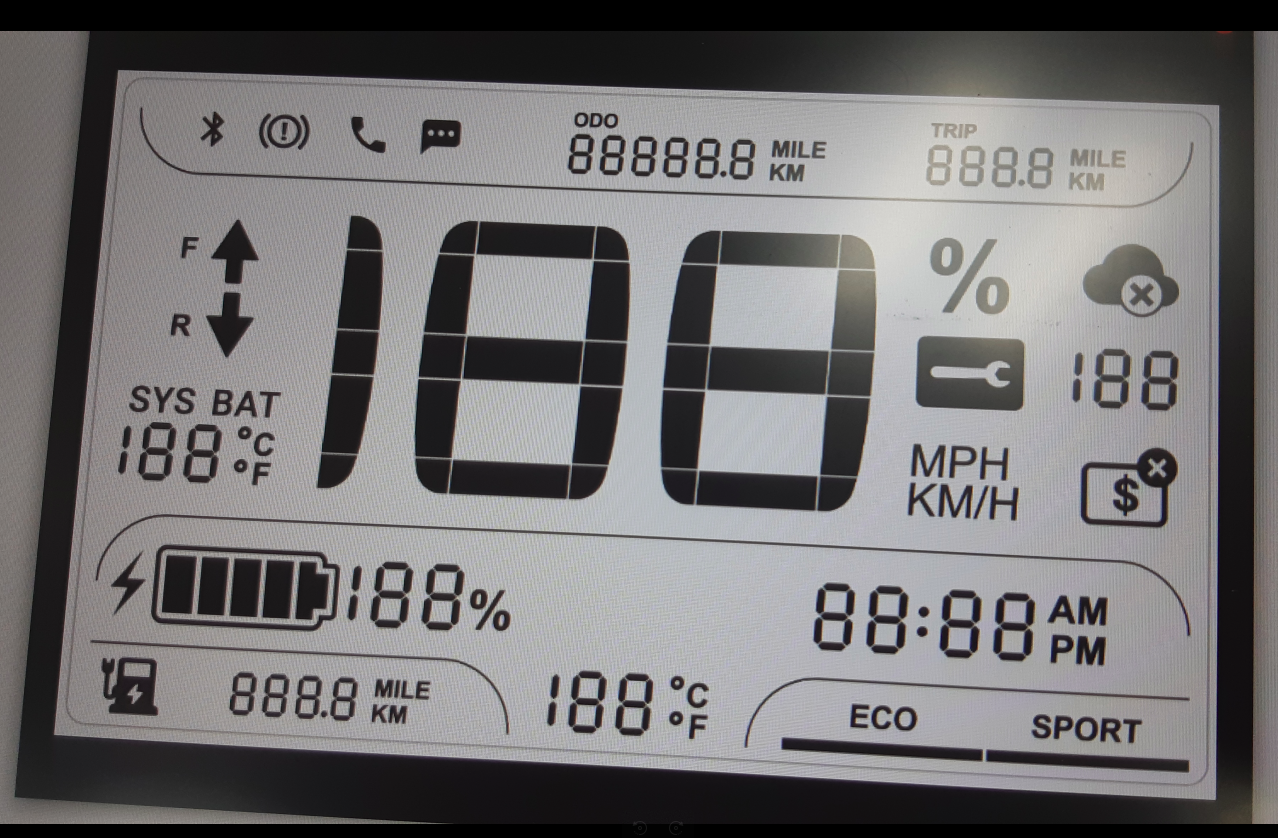bluetooth_on: (195, 108, 232, 150)
braking_on: (255, 109, 314, 153)
calling_on: (347, 111, 392, 157)
connection_lost: (1076, 239, 1183, 319)
error_code: (911, 330, 1030, 414)
low_battery: (96, 650, 166, 719)
sms_on: (414, 114, 467, 159)
vin_id: (1076, 444, 1181, 532)
